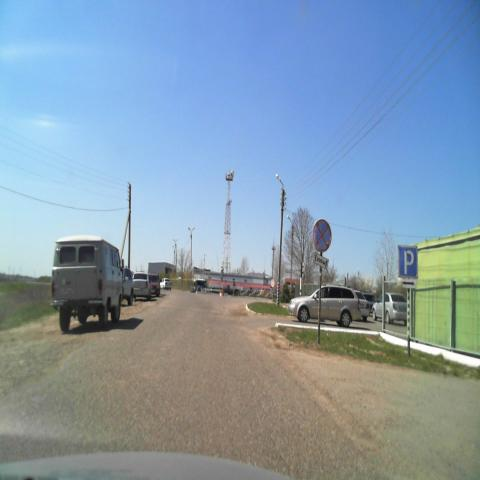8_3_1: (398, 277, 418, 289)
